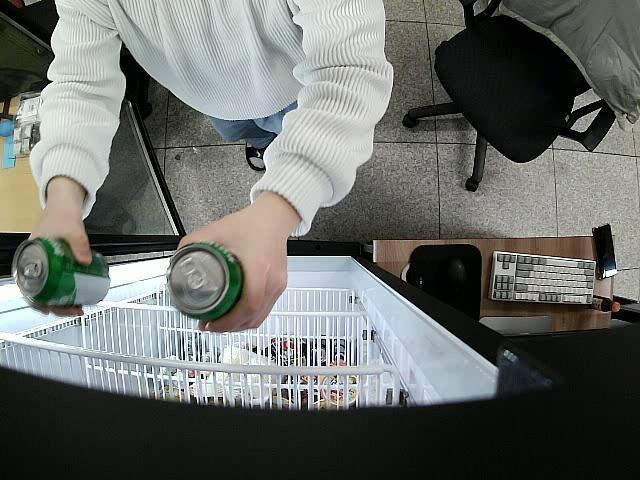12_chilsungCider: (12, 236, 111, 309), (164, 243, 243, 322)
